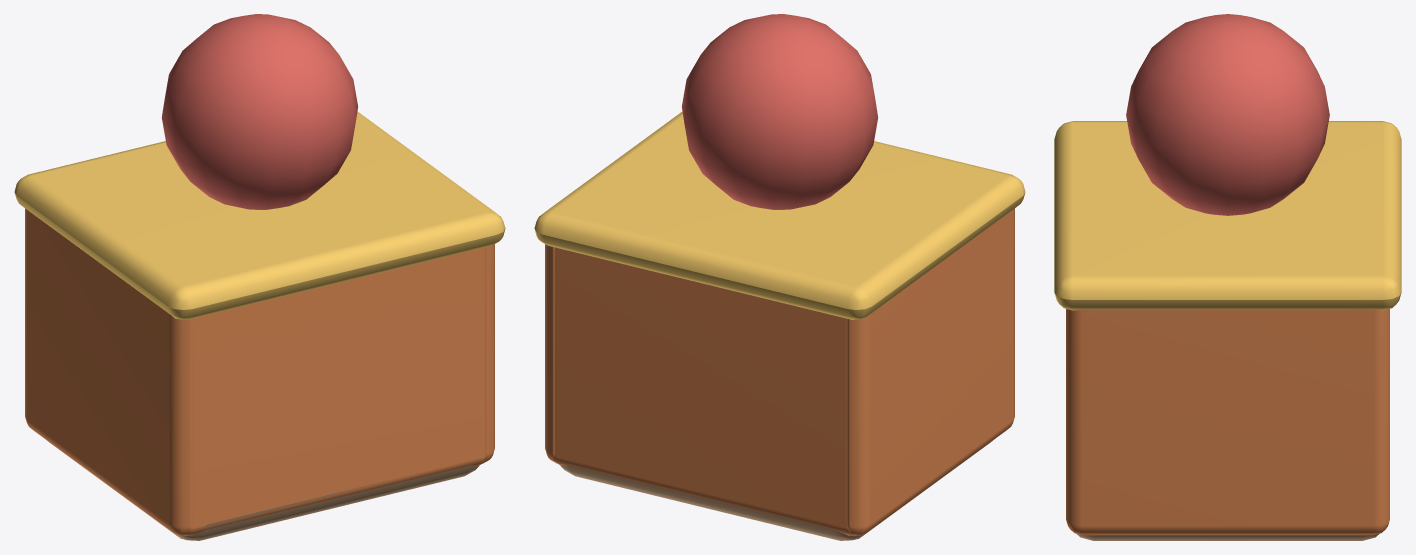
The model's file is ava-position-on.glb.
The picture shows the model from 3 angles, left to right: view 1: azimuth 30°, elevation 25°; view 2: azimuth 150°, elevation 25°; view 3: azimuth 270°, elevation 25°; orthographic projection. The views are drawn at different scales.
Parts seen in each view (by area): view 1: box side.002, box lid, box side, location ball, box floor, box side.001; view 2: box side.003, box lid, box side, location ball, box floor, box side.001; view 3: box side.001, box lid, location ball, box floor.
Part boxes in pixels (x1,y1,x2,y2): box side.002: (186, 247, 485, 535); box lid: (14, 111, 505, 319); box side: (25, 208, 192, 535); location ball: (161, 14, 358, 209); box floor: (48, 441, 479, 540); box side.001: (483, 244, 494, 463); box side.003: (554, 247, 853, 535); box lid: (534, 111, 1025, 319); box side: (847, 208, 1014, 535); location ball: (681, 14, 878, 209); box floor: (560, 441, 991, 540); box side.001: (545, 244, 556, 463); box side.001: (1066, 309, 1389, 535); box lid: (1054, 121, 1401, 310); location ball: (1126, 14, 1329, 215); box floor: (1076, 533, 1379, 540).
Size of the model in its own units: 0.86 by 1.07 by 0.75.
